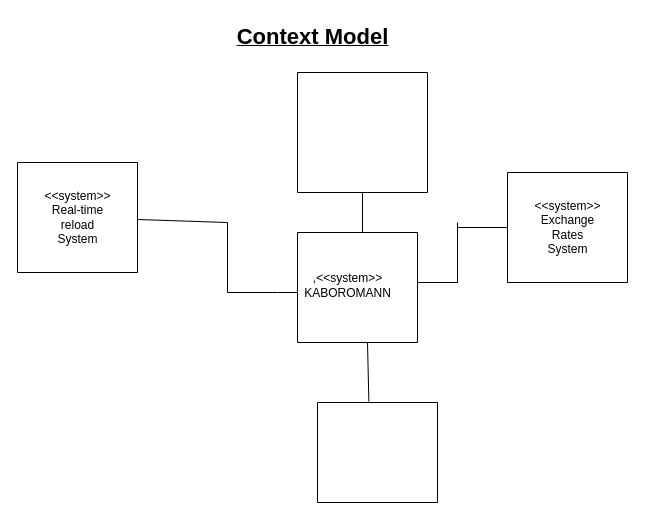
The diagram is 645 pixels wide and 520 high, and some of its shapes have lost their labels. The centre of each missing label's shape, as x and y in pixels:
"<<system>> Cryprocurrencies System" belongs at [377,452].
"<<system>> User Management System" belongs at [362,132].
